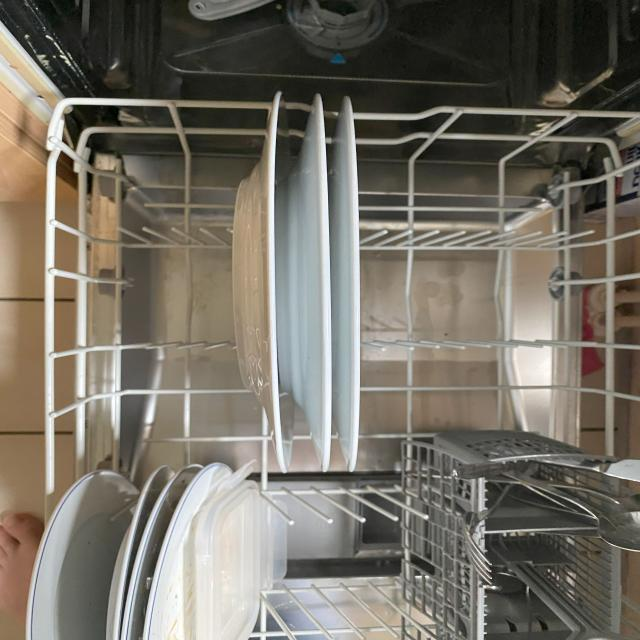clutery_bin: (468, 455, 640, 640)
empty_slot: (377, 119, 623, 437), (59, 113, 237, 449), (267, 473, 402, 640)
